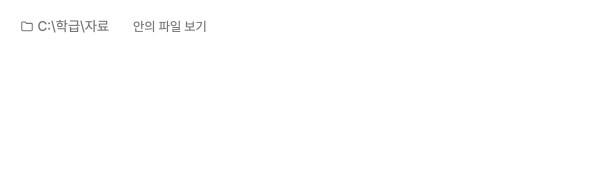
Test: 저장된 폴더가 아직 허용되지 않았으면 "이 폴더를 열도록 허용" 단추로 다시 골라 연다
The width and height of the screenshot is (592, 172).
expect the button "이 폴더를 열도록 허용" is not shown: met
What coordinates should you click on to do the following:
click the button "C:\\학급\\자료"
I would click on:
 (65, 27)
Its box is [12,12,117,42].
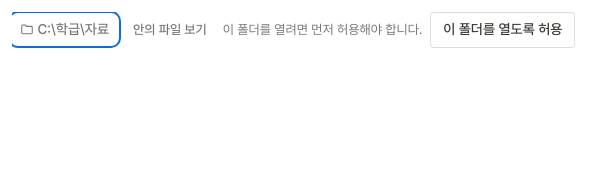
What coordinates should you click on to do the following:
click the button "이 폴더를 열도록 허용"
I would click on:
 (503, 30)
Its box is [430,12,575,48].
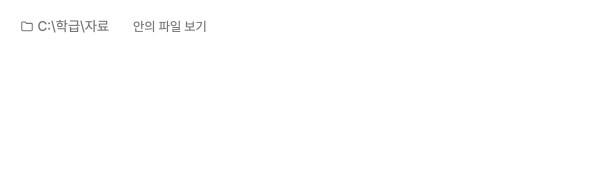
expect the button "이 폴더를 열도록 허용" is gone: met
